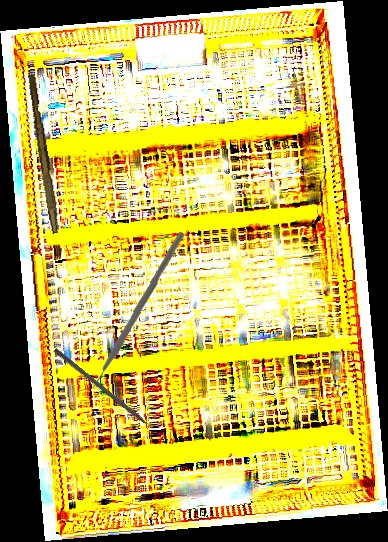Chopper: (70, 231, 191, 393)
Hook Surgical: (52, 347, 162, 439)
Scalpel Handle: (24, 74, 64, 234)
